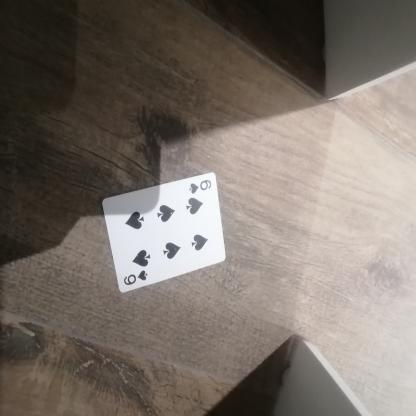6S: (176, 170, 215, 199), (119, 268, 154, 288)
